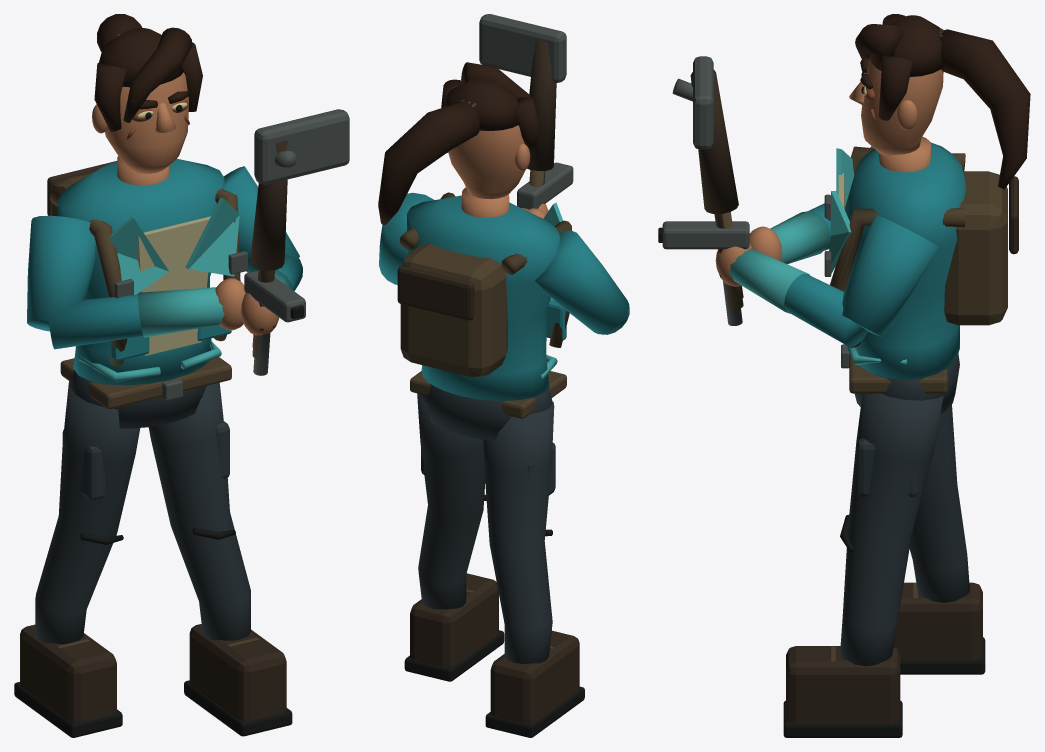
File: survivor_01.glb
The picture shows the model from 3 angles, left to right: view 1: azimuth 30°, elevation 25°; view 2: azimuth 150°, elevation 25°; view 3: azimuth 270°, elevation 25°; orthographic projection. The views are drawn at different scales.
Parts seen in each view (by area): view 1: survivor_01, WeaponAxe, WeaponBat, WeaponPistol, WeaponCrowbar; view 2: survivor_01, WeaponAxe, WeaponBat, WeaponPistol; view 3: survivor_01, WeaponBat, WeaponPistol, WeaponAxe, WeaponCrowbar.
Boxes of the visible parts, left/top/right/bottom form: survivor_01: left=14, top=14, right=302, bottom=737; WeaponAxe: left=252, top=109, right=349, bottom=358; WeaponBat: left=250, top=140, right=287, bottom=348; WeaponPistol: left=244, top=270, right=305, bottom=330; WeaponCrowbar: left=253, top=151, right=297, bottom=375; survivor_01: left=378, top=62, right=629, bottom=737; WeaponAxe: left=479, top=14, right=566, bottom=184; WeaponBat: left=527, top=40, right=556, bottom=186; WeaponPistol: left=517, top=162, right=573, bottom=209; survivor_01: left=715, top=14, right=1030, bottom=737; WeaponBat: left=690, top=70, right=743, bottom=301; WeaponPistol: left=658, top=221, right=749, bottom=277; WeaponAxe: left=693, top=56, right=743, bottom=309; WeaponCrowbar: left=672, top=78, right=742, bottom=325.
Size of the model in its own units: 0.6792 by 1.64 by 0.812.
